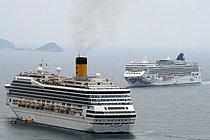Ship: (4, 49, 140, 136)
